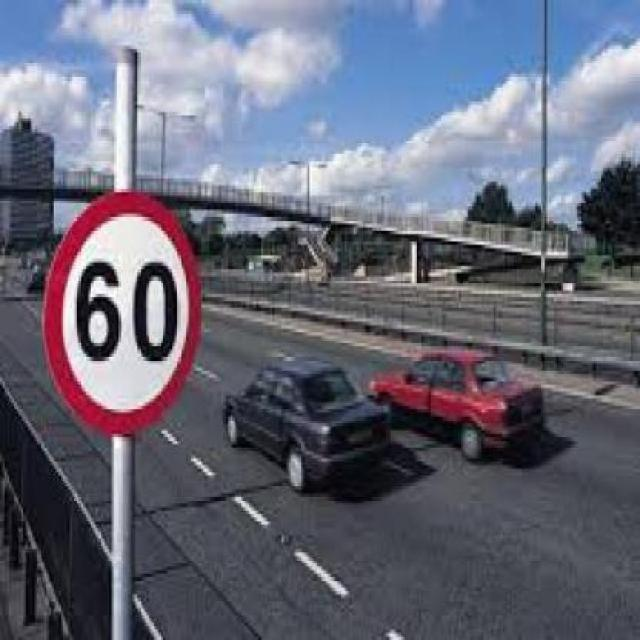forb_speed_over_60: (52, 195, 196, 428)
